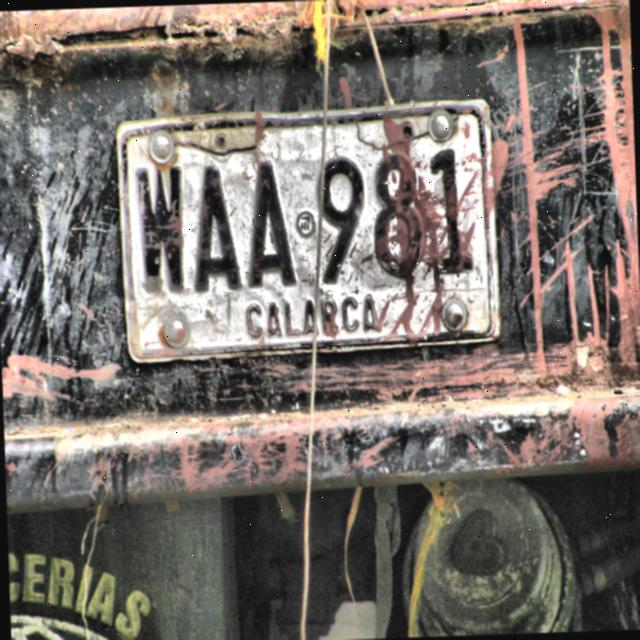plate: (121, 107, 493, 355)
